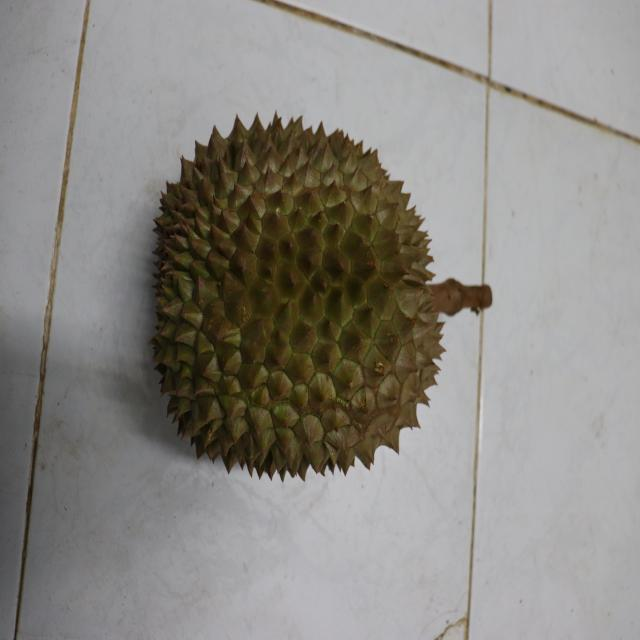mature: (147, 108, 448, 483)
